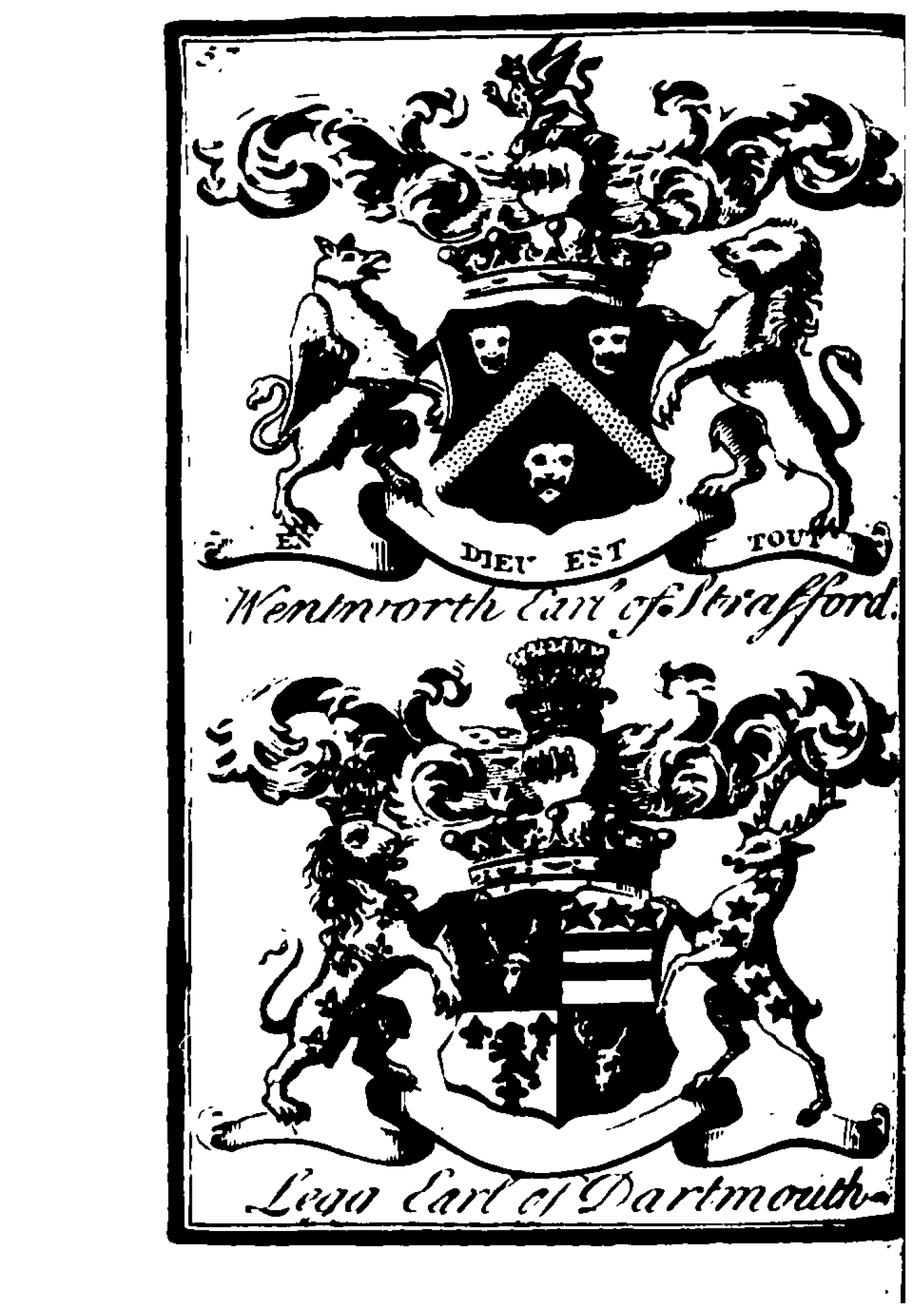coat_of_arms: (202, 636, 905, 1226), (203, 48, 902, 631)
